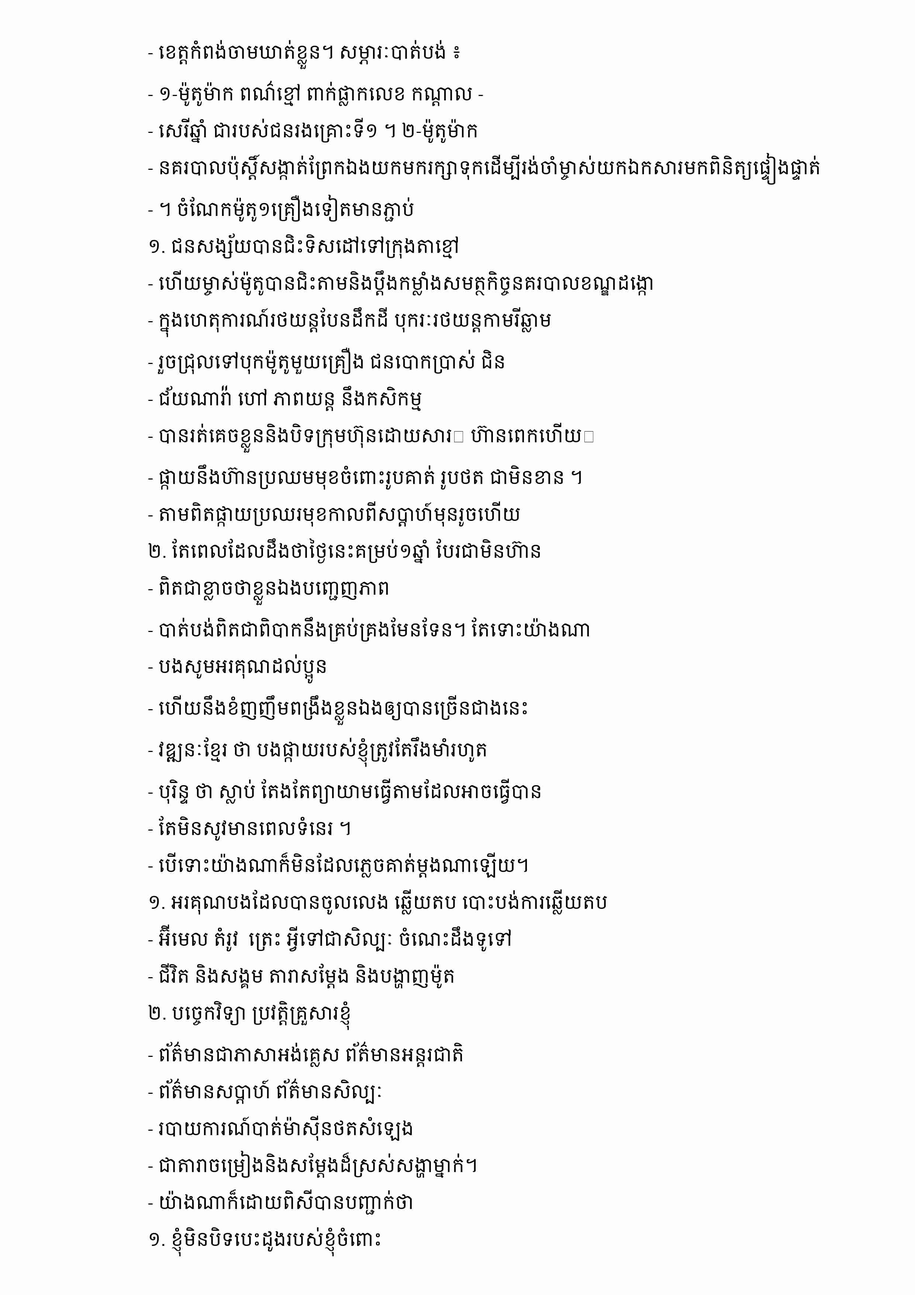text: (148, 153, 826, 185), (148, 423, 600, 453), (148, 270, 659, 296), (148, 307, 557, 337), (148, 889, 613, 915), (148, 695, 534, 725), (148, 464, 588, 490), (148, 617, 596, 642), (148, 538, 547, 564), (148, 737, 493, 767), (148, 924, 517, 952), (148, 852, 534, 878), (148, 779, 547, 804), (148, 501, 526, 527), (148, 347, 511, 374), (148, 40, 467, 69), (148, 1151, 483, 1178), (148, 80, 488, 106), (148, 118, 483, 143), (148, 1041, 469, 1067), (148, 233, 465, 259), (148, 963, 460, 989), (148, 195, 419, 222), (148, 385, 427, 411), (148, 1227, 387, 1257), (148, 576, 395, 605), (148, 1189, 419, 1215), (148, 1116, 419, 1141), (148, 1078, 388, 1104), (148, 1001, 356, 1030), (148, 654, 332, 684), (148, 816, 357, 841)
